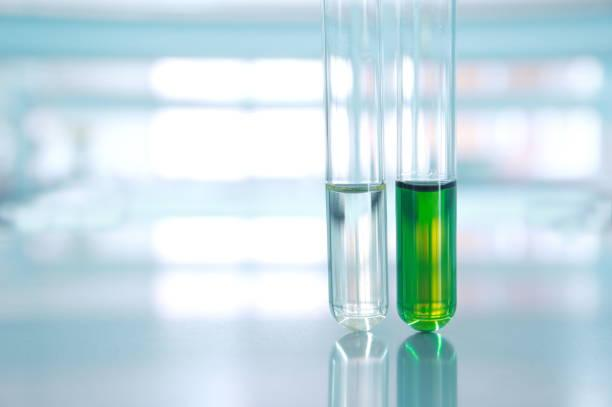Test tube: (319, 3, 388, 321), (399, 6, 462, 331)
